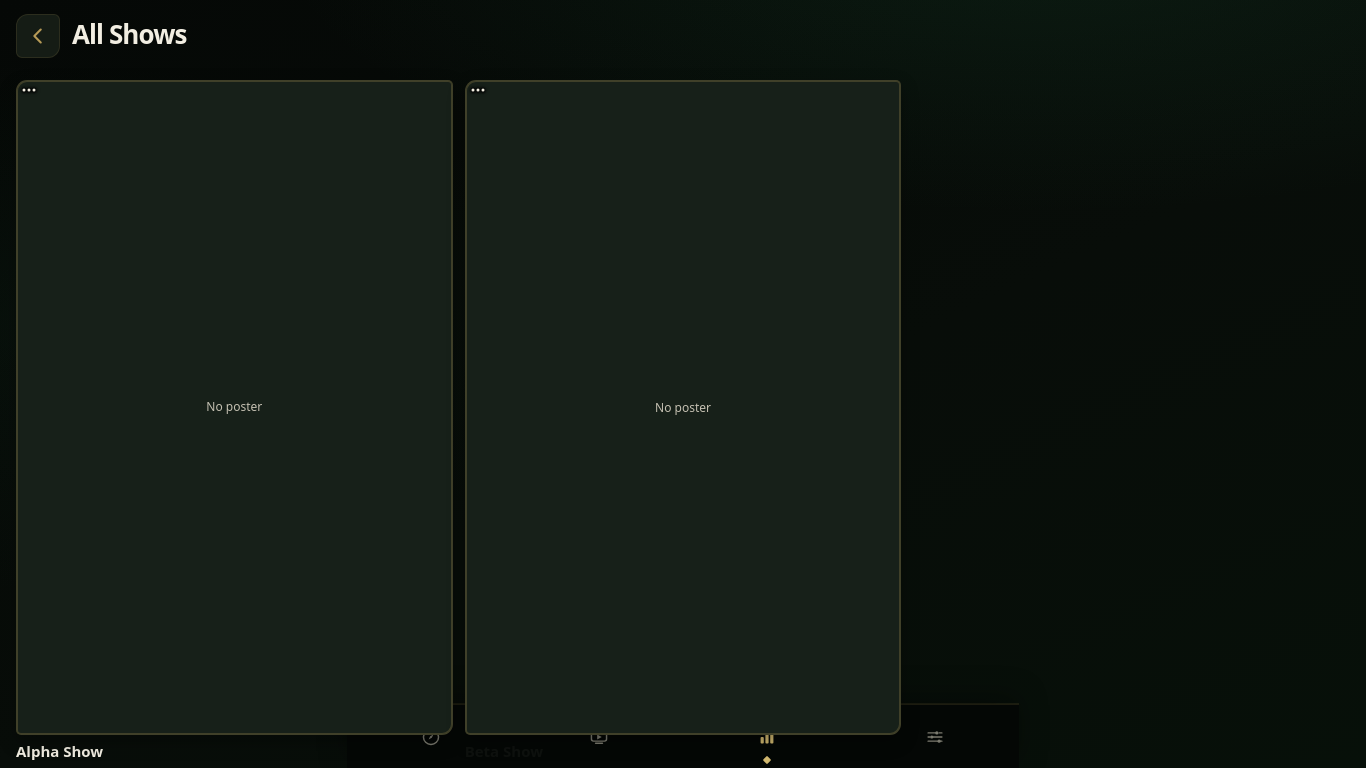
Test: Stats + StatsAllShows integration — shared state, no second loader › direct entry at /stats/all renders immediately (no NotFound) and the back control returns to /stats
expect the heading "All Shows" is shown: met, box [72,16,186,50]
Click the link with class "nested-header__back". click: coordinates (38, 36)
box: [16,14,60,58]
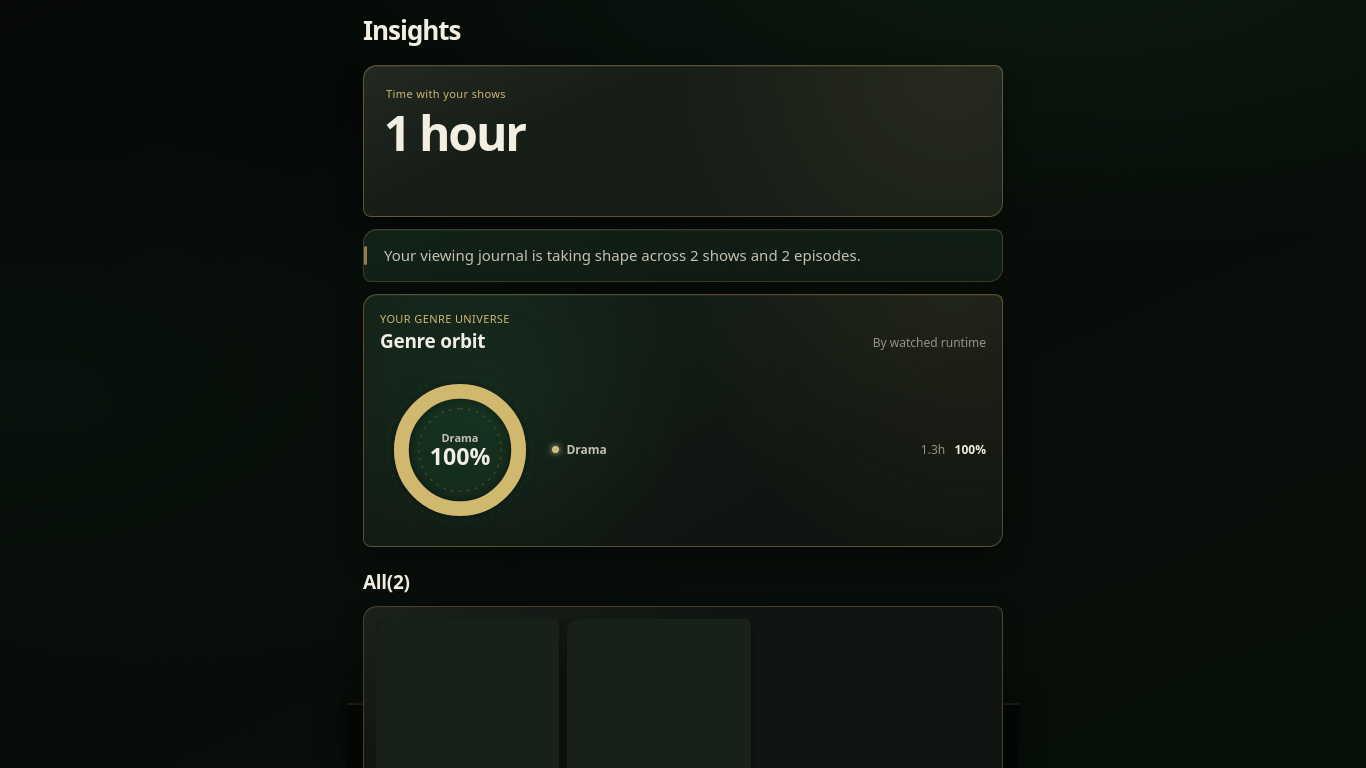
expect the text "All(2)" is shown: met, box [363,569,410,595]
